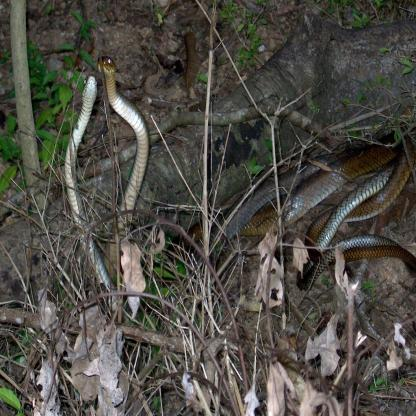Snake: (224, 155, 416, 272), (99, 58, 152, 252), (58, 72, 104, 292)
